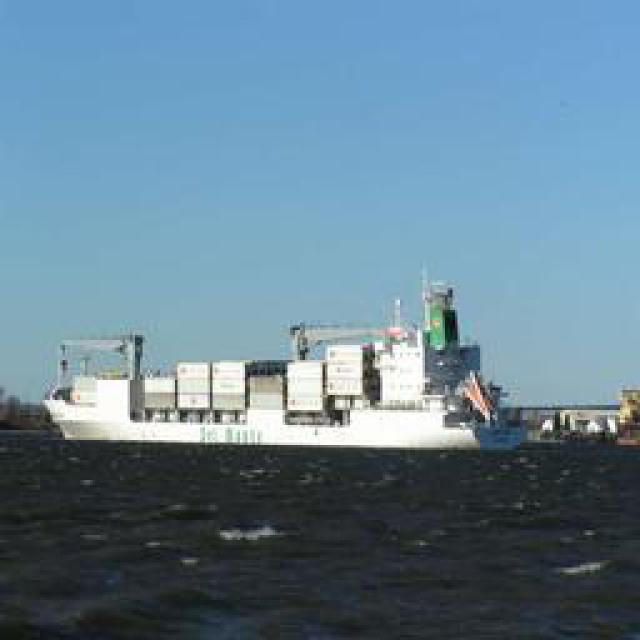Ship: (43, 270, 548, 458)
